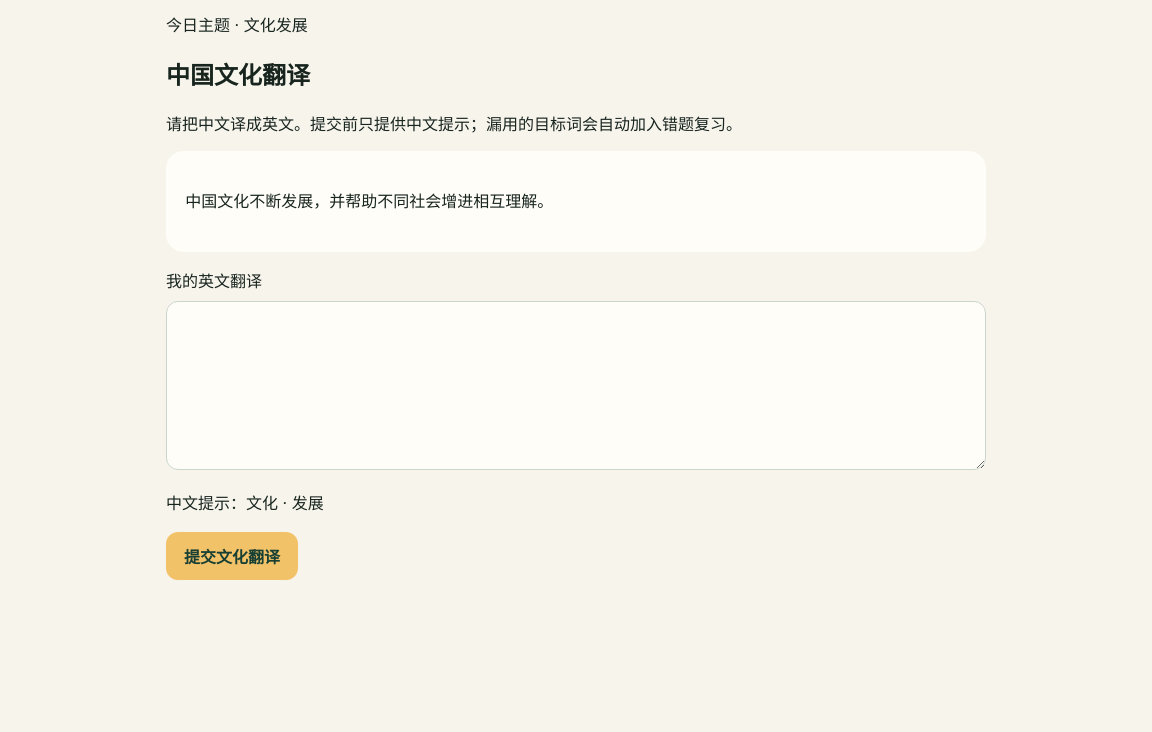
Test: DailyCultureTask › opens as an independent translation task after vocabulary passes
Type "Chinese culture continues to develop and helps different societies improve mutual understanding." into the text box labelled "我的英文翻译" at (576, 386), box x1=166 y1=301 x2=986 y2=470
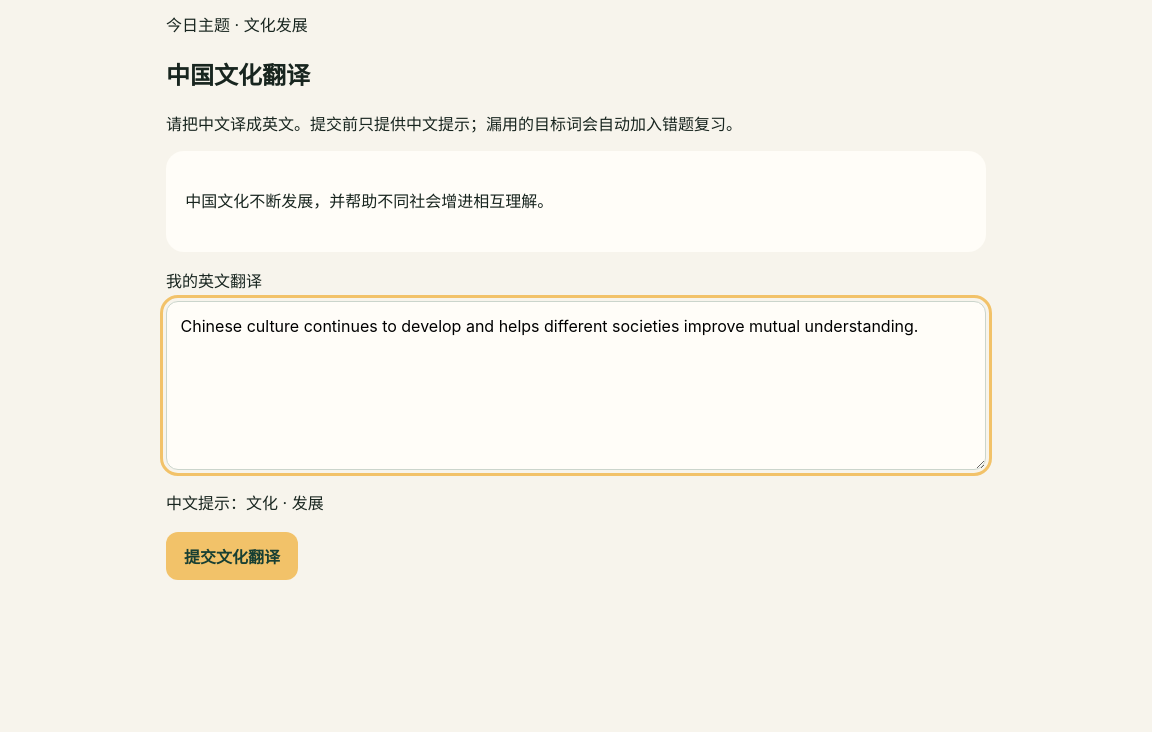
Click the button "提交文化翻译" at (232, 556), box x1=166 y1=532 x2=298 y2=580
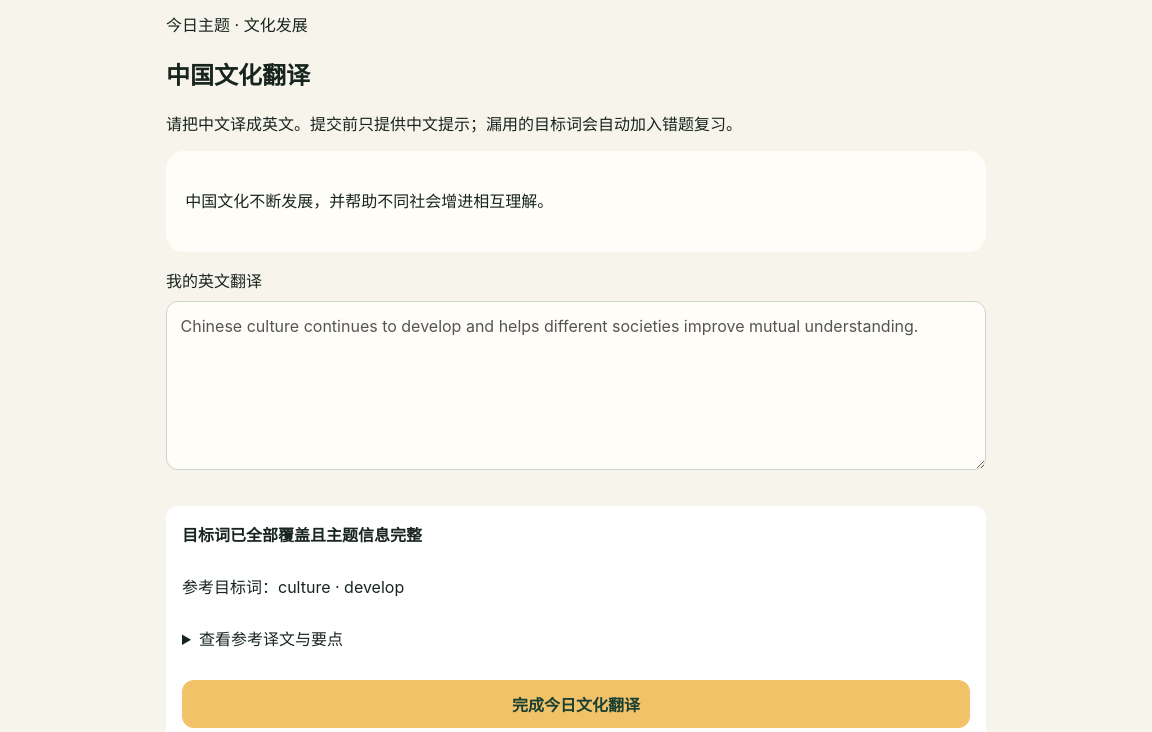
Expected: the button "完成今日文化翻译" is shown, x1=182 y1=680 x2=970 y2=728
